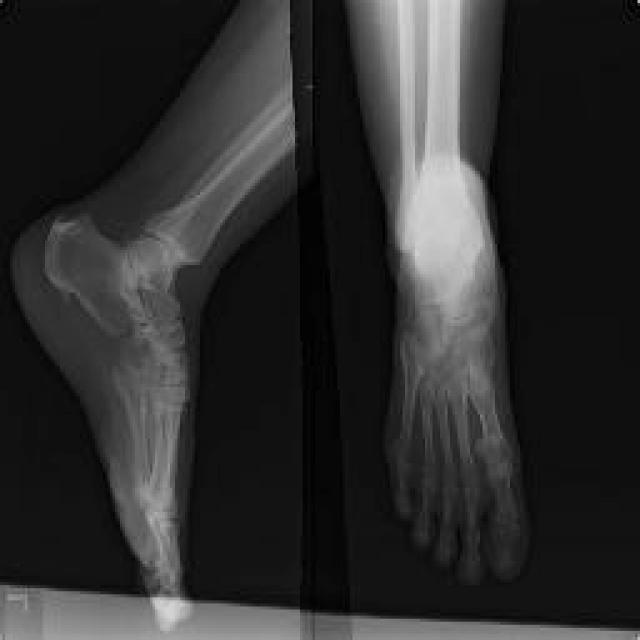normal: (45, 99, 291, 590), (389, 2, 528, 581)
